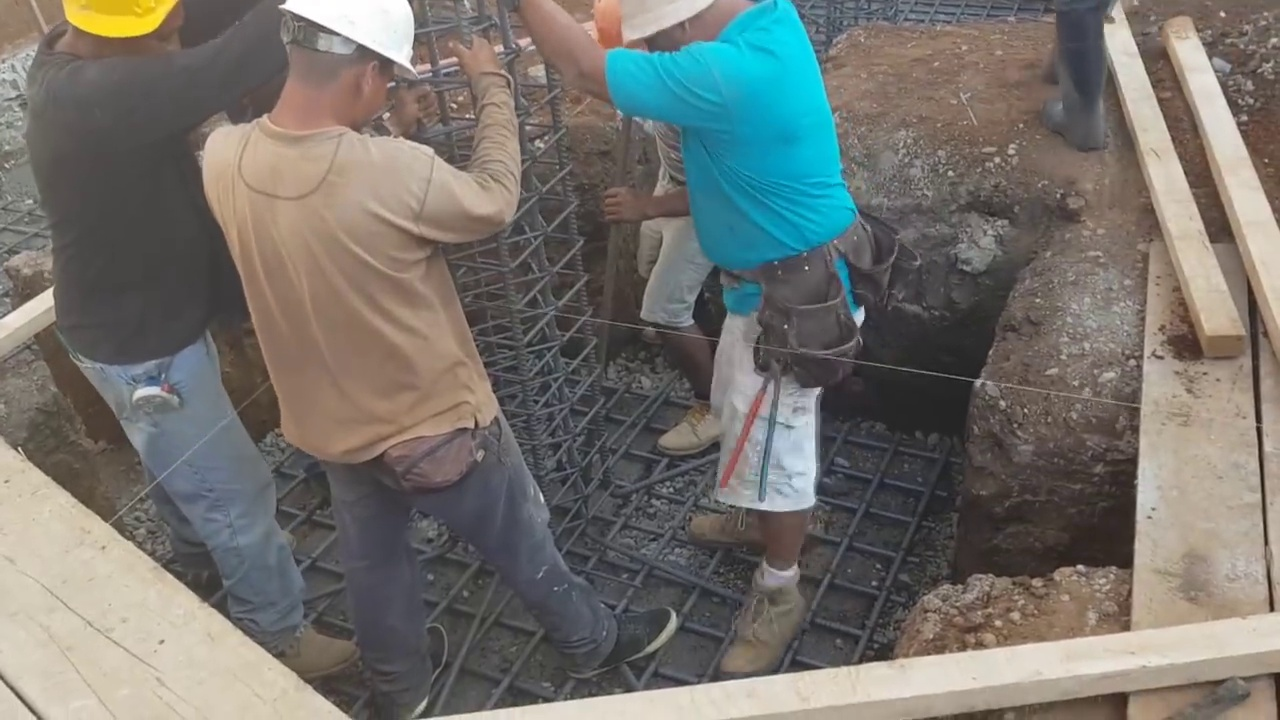helmet: (280, 0, 418, 81), (63, 0, 178, 41)
helmet-off: (613, 0, 760, 54)
helmet-on: (259, 0, 418, 136), (42, 0, 187, 79)
person: (197, 19, 677, 711), (20, 1, 360, 695), (530, 0, 860, 683)
